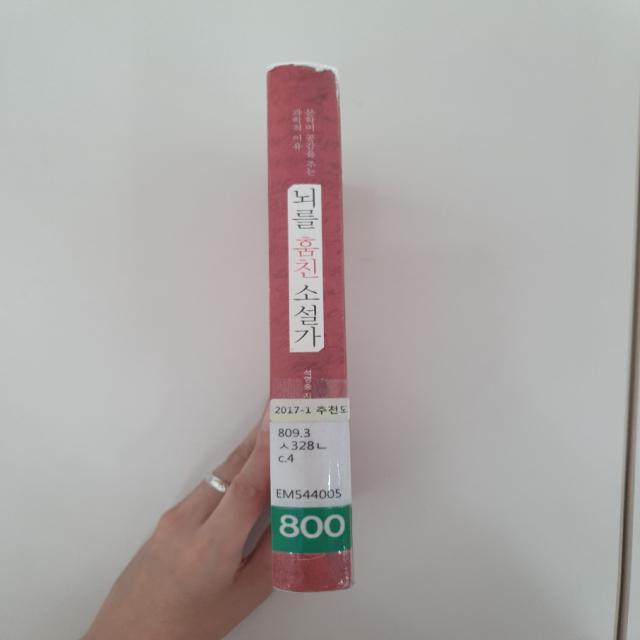Ripped: (320, 59, 346, 106)
Wornout: (259, 56, 320, 77)
